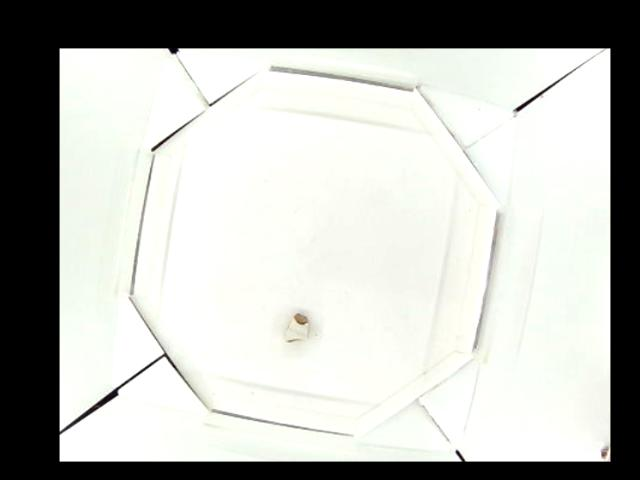China: (283, 312, 312, 341)
